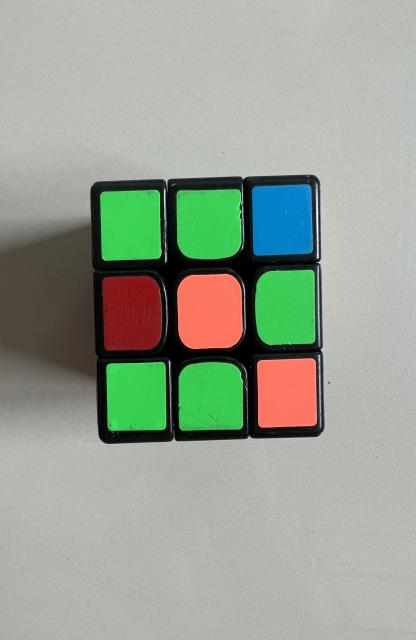Blue: (251, 184, 313, 256)
Green: (177, 189, 242, 260), (255, 270, 315, 345), (179, 362, 244, 431), (100, 190, 161, 261), (106, 362, 167, 431)
Orange: (178, 274, 243, 350), (257, 359, 317, 428)
Red: (102, 276, 162, 351)
